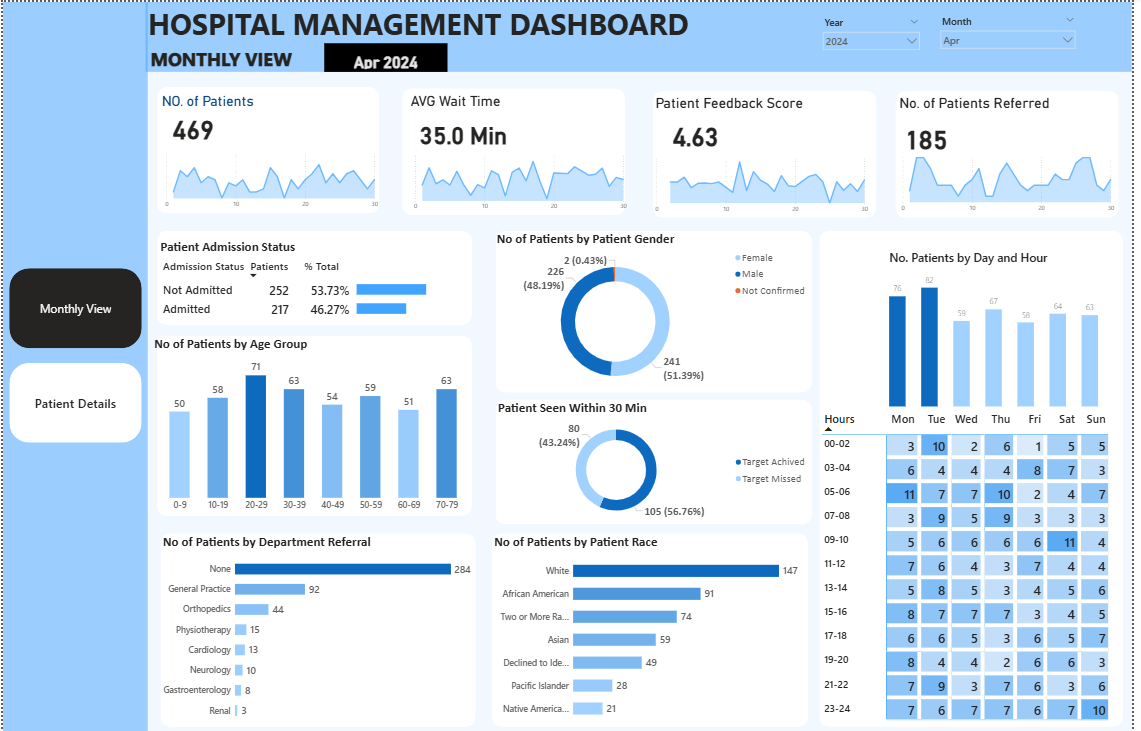

The dashboard page shown, as its layout file describes it:
{"tool":"powerbi","page":{"name":"Monthly View","canvas":[2300,1500],"ordinal":0},"visuals":[{"type":"shape","box":[0,0,295,1500],"z":0},{"type":"shape","box":[290,0,2010,142.5],"z":1000},{"type":"textbox","box":[290,0,1195,87.5],"z":2000},{"type":"textbox","box":[295.1,87.8,307.3,70.7],"z":3000},{"type":"slicer","fields":{"Values":["Date Table.Year"]},"box":[1661,22,217.1,100],"z":4000},{"type":"slicer","fields":{"Values":["Date Table.Month"]},"box":[1900,19.5,295.1,100],"z":5000},{"type":"cardVisual","fields":{"Data":["Min(Date Table.Month & Year)"]},"box":[653.7,82.9,251.2,58.5],"z":6000},{"type":"shape","box":[312.7,173.2,453.7,258.5],"z":6000,"group":"g1"},{"type":"textbox","box":[319.5,181.2,246.3,56.1],"z":7000,"group":"g1"},{"type":"shape","box":[312.5,680,642.5,367.5],"z":7000},{"type":"group","id":"g1","title":"Group 1","box":[290.2,173.2,482.9,258.5],"z":8000},{"type":"cardVisual","fields":{"Data":["Date Table.No of Patients"]},"box":[290.2,206.5,195,97.5],"z":8000,"group":"g1"},{"type":"group","id":"g2","title":"Group 2","box":[812.2,175.6,465.9,258.5],"z":9000},{"type":"areaChart","fields":{"Category":["Date Table.Date.Variation.Date Hierarchy.Day"],"Y":["Date Table.No of Patients"]},"box":[319.5,293.4,453.7,136.6],"z":9000,"group":"g1"},{"type":"group","id":"g3","title":"Group 3","box":[1317.1,180.5,463.4,258.5],"z":10000},{"type":"shape","box":[812.2,175.6,455,259],"z":11000,"group":"g2"},{"type":"group","id":"g4","title":"Group 4","box":[1819.5,180.5,456.1,258.5],"z":11000},{"type":"textbox","box":[825.6,181.1,246.3,56.1],"z":12000,"group":"g2"},{"type":"group","id":"g5","title":"Group 5","box":[312.5,465,642.5,197.5],"z":12000},{"type":"cardVisual","fields":{"Data":["Date Table.Avg Wait Time"]},"box":[825.6,220.1,226.8,97.6],"z":13000,"group":"g2"},{"type":"shape","box":[1002.5,465,645,330],"z":13000},{"type":"areaChart","fields":{"Category":["Date Table.Date.Variation.Date Hierarchy.Day"],"Y":["Avg(Hospital ER_Data.Patient Waittime)"]},"box":[825.6,298.2,453.7,136.6],"z":14000,"group":"g2"},{"type":"shape","box":[1002.5,810,645,255],"z":14000},{"type":"shape","box":[1325.5,180.5,455,259],"z":15000,"group":"g3"},{"type":"shape","box":[320,1082.5,642.5,395],"z":15000},{"type":"textbox","box":[1324.4,183.6,400,56.1],"z":16000,"group":"g3"},{"type":"shape","box":[995,1082.5,645,395],"z":16000},{"type":"cardVisual","fields":{"Data":["Avg(Hospital ER_Data.Patient Satisfaction Score)"]},"box":[1348.3,220.9,195,97.5],"z":17000,"group":"g3"},{"type":"clusteredColumnChart","fields":{"Category":["Hospital ER_Data.Age Group"],"Y":["Date Table.No of Patients"]},"box":[302.5,680,660,367.5],"z":17000},{"type":"areaChart","fields":{"Category":["Date Table.Date.Variation.Date Hierarchy.Day"],"Y":["Avg(Hospital ER_Data.Patient Satisfaction Score)"]},"box":[1317.1,303.1,453.7,136.6],"z":18000,"group":"g3"},{"type":"barChart","fields":{"Category":["Hospital ER_Data.Department Referral"],"Y":["Date Table.No of Patients"]},"box":[320,1082.5,637.5,395],"z":18000},{"type":"shape","box":[1820.5,180.5,455,259],"z":19000,"group":"g4"},{"type":"donutChart","fields":{"Category":["Hospital ER_Data.Patient Gender"],"Y":["Date Table.No of Patients"]},"box":[1000,465,647.5,337.5],"z":19000},{"type":"textbox","box":[1821.9,183.6,380.5,58.5],"z":20000,"group":"g4"},{"type":"barChart","fields":{"Y":["Date Table.No of Patients"],"Category":["Hospital ER_Data.Patient Race"]},"box":[995,1082.5,637.5,395],"z":20000},{"type":"cardVisual","fields":{"Data":["Date Table.No of Patient Referred"]},"box":[1821.4,225.7,195,97.5],"z":21000,"group":"g4"},{"type":"shape","box":[1663.6,466.2,619.1,1011.4],"z":21000},{"type":"areaChart","fields":{"Category":["Date Table.Date.Variation.Date Hierarchy.Day"],"Y":["Date Table.No of Patient Referred"]},"box":[1819.5,303.1,453.7,134.1],"z":22000,"group":"g4"},{"type":"donutChart","title":"Patient Seen Within 30 Min","fields":{"Y":["Date Table.No of Patient Referred"],"Category":["Hospital ER_Data.Waittime Status"]},"box":[1002.5,810,645,255],"z":22000},{"type":"shape","box":[312.5,465,642.5,192.2],"z":23000,"group":"g5"},{"type":"pivotTable","fields":{"Rows":["Hospital ER_Data.Waittime Intervcal"],"Columns":["Date Table.Day Name"],"Values":["Date Table.No of Patients"]},"box":[1663.6,825.4,619.1,675.1],"z":23000},{"type":"pivotTable","title":"Patient Admission Status","fields":{"Values":["Date Table.No of Patients1","Date Table.No of Patients"],"Rows":["Hospital ER_Data.Admission Status"]},"box":[314.9,479.5,640.1,177.7],"z":24000,"group":"g5"},{"type":"columnChart","title":"No. Patients by Day and Hour","fields":{"Category":["Date Table.Day Name"],"Y":["Date Table.No of Patients"]},"box":[1801.1,504.4,438.2,326.1],"z":24000},{"type":"barChart","fields":{"Category":["Hospital ER_Data.Admission Status"],"Y":["Date Table.No of Patient Referred"]},"box":[716,541.8,206.9,120.7],"z":25000,"group":"g5"},{"type":"pageNavigator","box":[12.7,542.6,270,356.7],"z":25000}]}

Visuals, with their boxes in screenshot pixels (x1, y1, x2, y2), scaled from the page's 2300x1500 canvas onto the 1141x731 screenshot:
shape: bbox(0, 0, 146, 730)
shape: bbox(144, 0, 1140, 69)
textbox: bbox(144, 0, 737, 43)
textbox: bbox(146, 43, 299, 77)
slicer - Date Table.Year: bbox(824, 11, 932, 59)
slicer - Date Table.Month: bbox(943, 10, 1089, 58)
cardVisual - Min(Date Table.Month & Year): bbox(324, 40, 449, 69)
shape: bbox(155, 84, 380, 210)
textbox: bbox(158, 88, 281, 116)
shape: bbox(155, 331, 474, 510)
"Group 1" group: bbox(144, 84, 384, 210)
cardVisual - Date Table.No of Patients: bbox(144, 101, 241, 148)
"Group 2" group: bbox(403, 86, 634, 212)
areaChart - Date Table.Date.Variation.Date Hierarchy.Day x Date Table.No of Patients: bbox(158, 143, 384, 210)
"Group 3" group: bbox(653, 88, 883, 214)
shape: bbox(403, 86, 629, 212)
"Group 4" group: bbox(903, 88, 1129, 214)
textbox: bbox(410, 88, 532, 116)
"Group 5" group: bbox(155, 227, 474, 323)
cardVisual - Date Table.Avg Wait Time: bbox(410, 107, 522, 155)
shape: bbox(497, 227, 817, 387)
areaChart - Date Table.Date.Variation.Date Hierarchy.Day x Avg(Hospital ER_Data.Patient Waittime): bbox(410, 145, 635, 212)
shape: bbox(497, 395, 817, 519)
shape: bbox(658, 88, 883, 214)
shape: bbox(159, 528, 477, 720)
textbox: bbox(657, 89, 855, 117)
shape: bbox(494, 528, 814, 720)
cardVisual - Avg(Hospital ER_Data.Patient Satisfaction Score): bbox(669, 108, 766, 155)
clusteredColumnChart - Hospital ER_Data.Age Group x Date Table.No of Patients: bbox(150, 331, 477, 510)
areaChart - Date Table.Date.Variation.Date Hierarchy.Day x Avg(Hospital ER_Data.Patient Satisfaction Score): bbox(653, 148, 878, 214)
barChart - Hospital ER_Data.Department Referral x Date Table.No of Patients: bbox(159, 528, 475, 720)
shape: bbox(903, 88, 1129, 214)
donutChart - Hospital ER_Data.Patient Gender x Date Table.No of Patients: bbox(496, 227, 817, 391)
textbox: bbox(904, 89, 1093, 118)
barChart - Date Table.No of Patients x Hospital ER_Data.Patient Race: bbox(494, 528, 810, 720)
cardVisual - Date Table.No of Patient Referred: bbox(904, 110, 1000, 158)
shape: bbox(825, 227, 1132, 720)
areaChart - Date Table.Date.Variation.Date Hierarchy.Day x Date Table.No of Patient Referred: bbox(903, 148, 1128, 213)
"Patient Seen Within 30 Min" donutChart: bbox(497, 395, 817, 519)
shape: bbox(155, 227, 474, 320)
pivotTable - Hospital ER_Data.Waittime Intervcal x Date Table.Day Name: bbox(825, 402, 1132, 730)
"Patient Admission Status" pivotTable: bbox(156, 234, 474, 320)
"No. Patients by Day and Hour" columnChart: bbox(894, 246, 1111, 405)
barChart - Hospital ER_Data.Admission Status x Date Table.No of Patient Referred: bbox(355, 264, 458, 323)
pageNavigator: bbox(6, 264, 140, 438)
